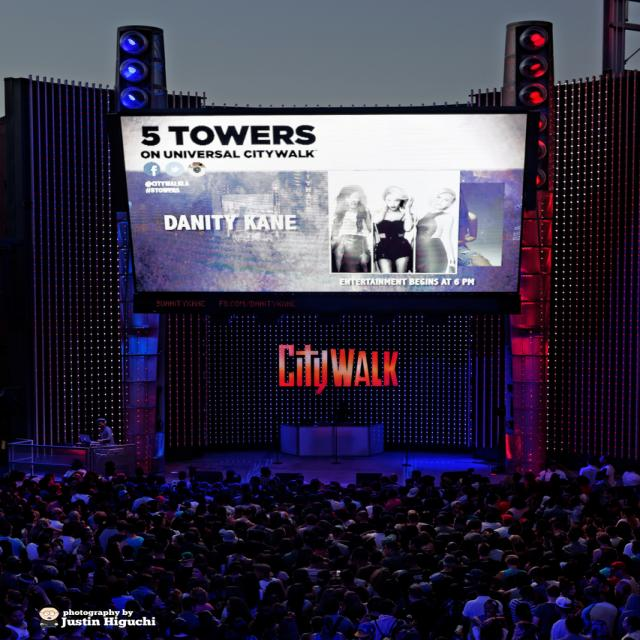Person: (0, 401, 640, 640), (321, 184, 374, 276), (410, 188, 456, 273), (370, 188, 414, 276), (457, 197, 493, 268)
